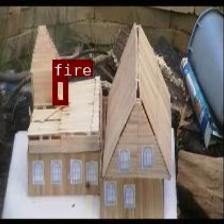fire: (52, 76, 67, 103)
